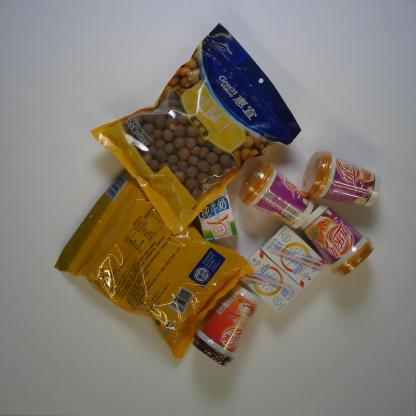Dried Food: (89, 21, 303, 238), (52, 167, 256, 361)
Instant Drink: (191, 284, 261, 368), (300, 203, 376, 279), (238, 160, 315, 230), (302, 150, 382, 209)
Milk: (259, 223, 329, 291), (240, 248, 301, 314), (197, 186, 239, 242)
